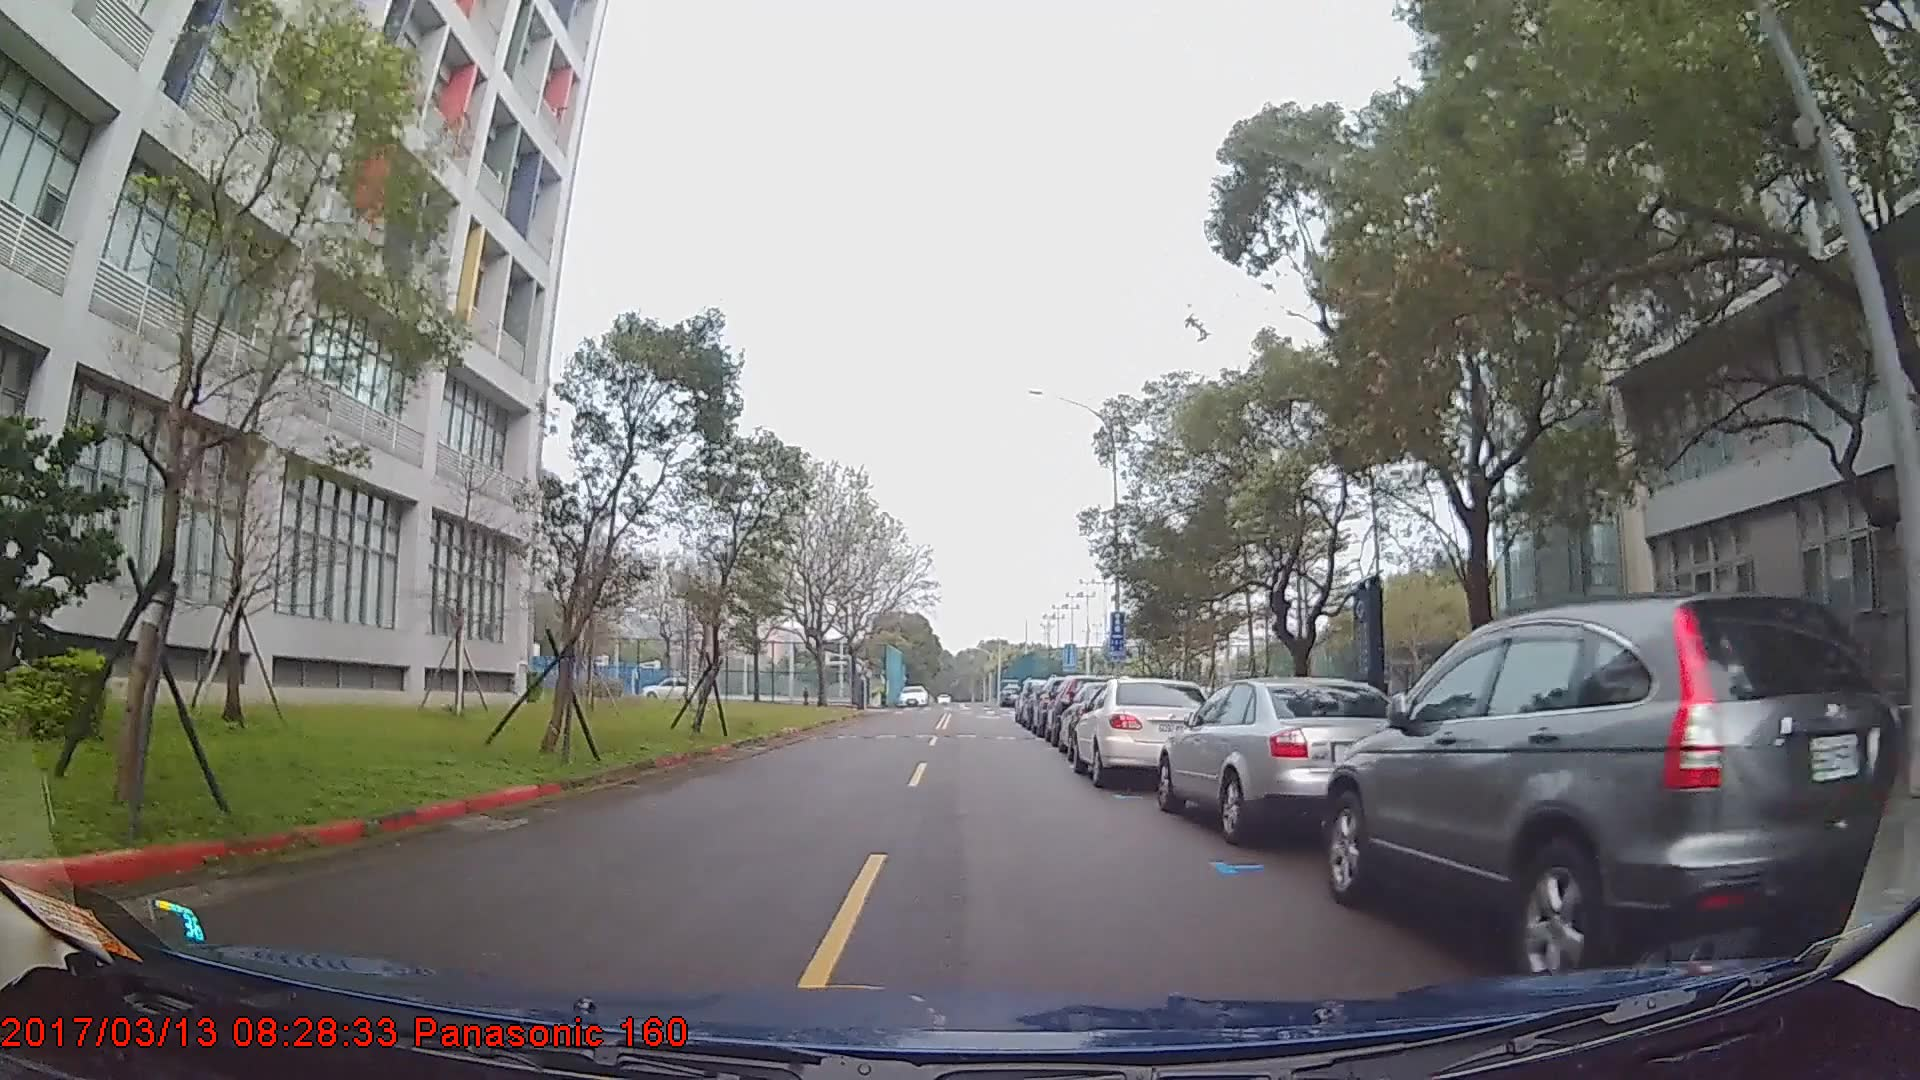vehicle: (1324, 591, 1898, 989), (1154, 676, 1419, 848), (1069, 675, 1222, 789), (641, 673, 698, 700), (895, 684, 927, 707)
